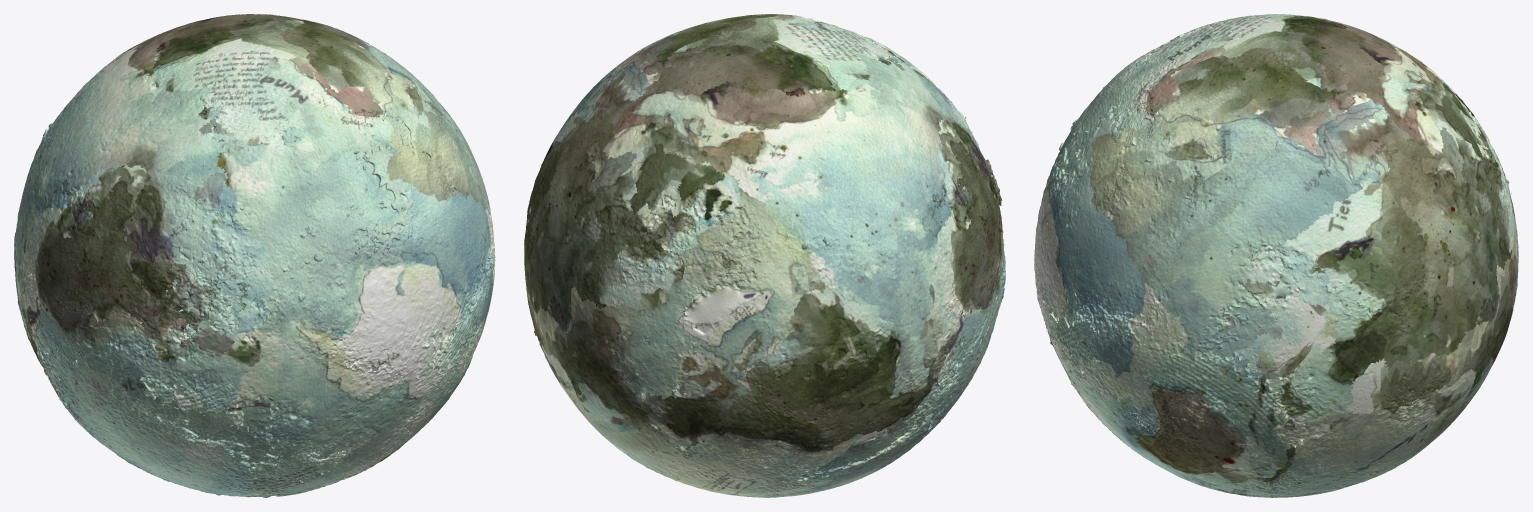
Rendered from Mundo.glb.
The picture shows the model from 3 angles, left to right: view 1: azimuth 30°, elevation 25°; view 2: azimuth 150°, elevation 25°; view 3: azimuth 270°, elevation 25°; orthographic projection.
Visible parts, largest first — view 1: Mundo; view 2: Mundo; view 3: Mundo.
Part boxes in pixels (box(x1,y1,x2,y2)): Mundo: box(14, 14, 495, 497); Mundo: box(524, 14, 1005, 497); Mundo: box(1034, 14, 1518, 497).
Bounding box in the file's own units: 3.54 × 3.55 × 3.54.
Materials: 1 (1 with a texture image).
